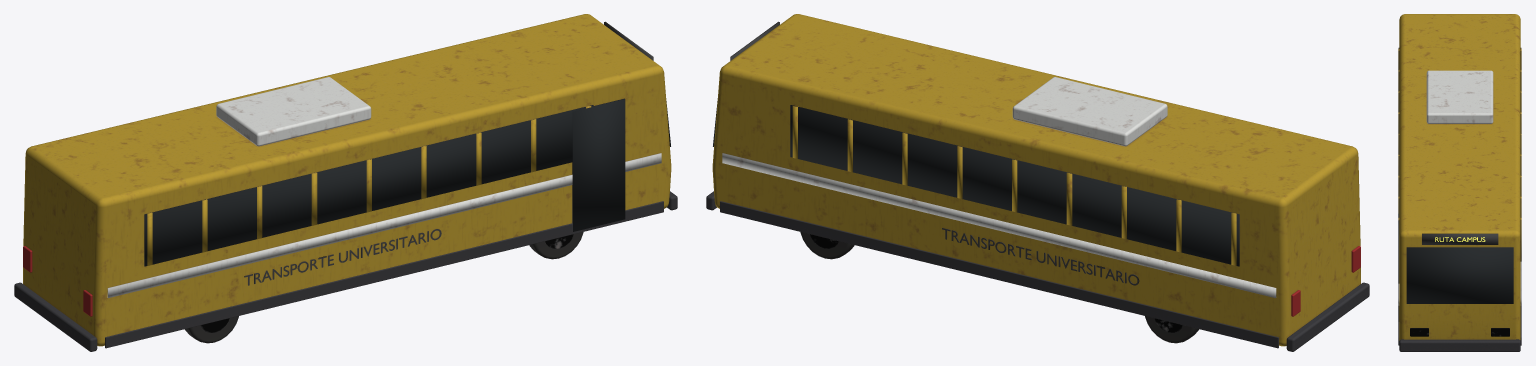
File: autobus_amarillo.glb
The picture shows the model from 3 angles, left to right: view 1: azimuth 30°, elevation 25°; view 2: azimuth 150°, elevation 25°; view 3: azimuth 270°, elevation 25°; orthographic projection. The views are drawn at different scales.
Visible parts, largest first — view 1: autobus_amarillo; view 2: autobus_amarillo; view 3: autobus_amarillo.
Part boxes in pixels (x1,y1,x2,y2): autobus_amarillo: (14, 14, 677, 351); autobus_amarillo: (706, 14, 1369, 351); autobus_amarillo: (1398, 14, 1521, 351).
Bounding box in the file's own units: 11.27 × 3.38 × 2.6.
Materials: 4 (1 with a texture image).
